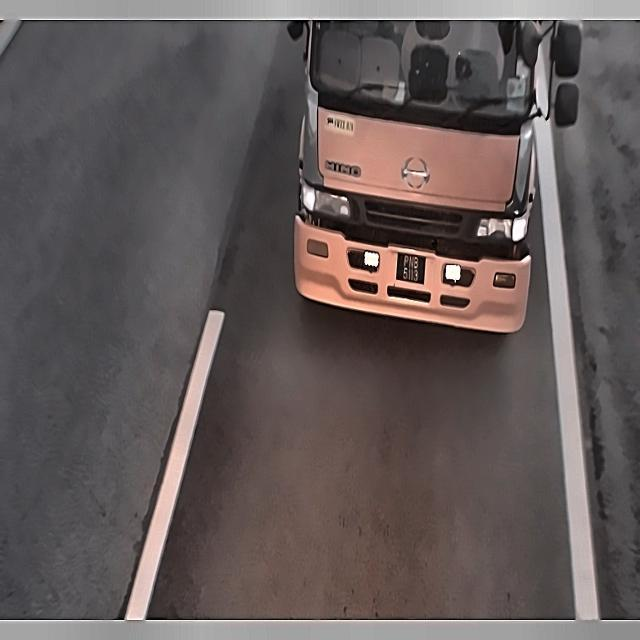car: (393, 248, 432, 291)
